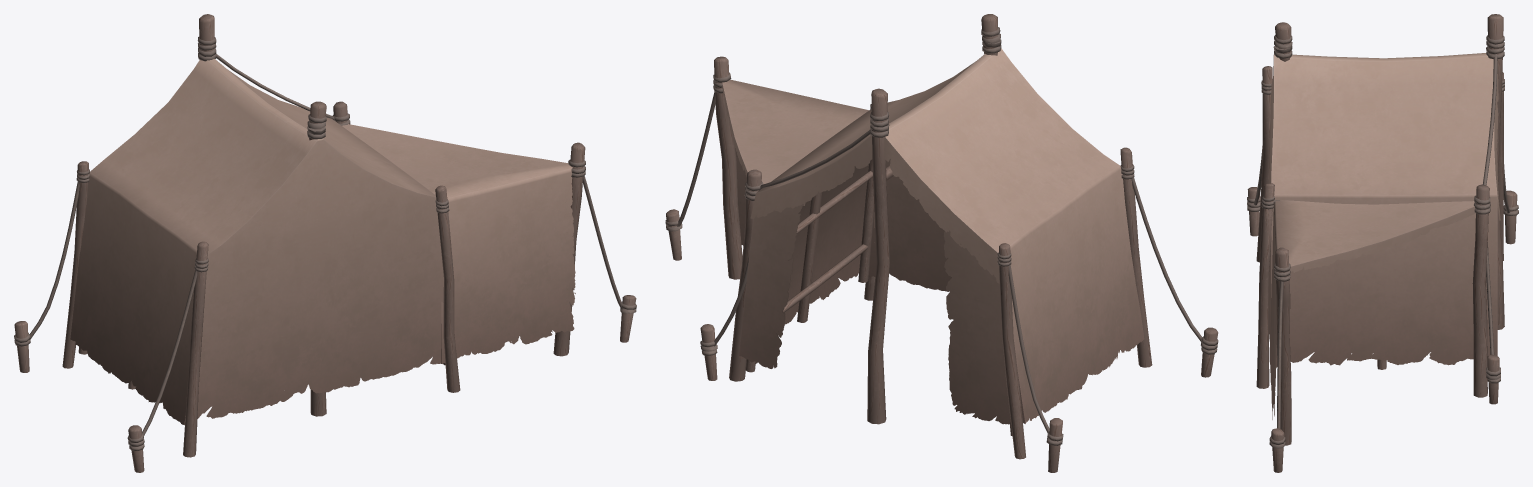
3 views of the same model, side by side, from view 1: azimuth 30°, elevation 25°; view 2: azimuth 150°, elevation 25°; view 3: azimuth 270°, elevation 25° (orthographic). The views are drawn at different scales.
Parts seen in each view (by area): view 1: submesh_0; view 2: submesh_0; view 3: submesh_0.
Boxes of the visible parts, <box> form: submesh_0: <box>14,14,636,472</box>; submesh_0: <box>665,14,1218,472</box>; submesh_0: <box>1247,14,1518,472</box>.
Bounding box in the file's own units: 8.2 × 4.81 × 3.81.
1 material, 1 textured.
